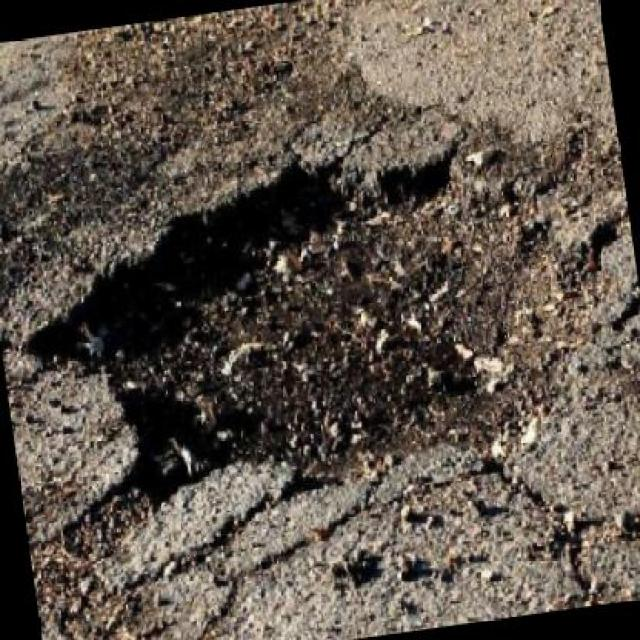pothole1: (0, 112, 638, 529)
